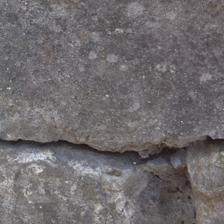Crack: (2, 65, 220, 110)
